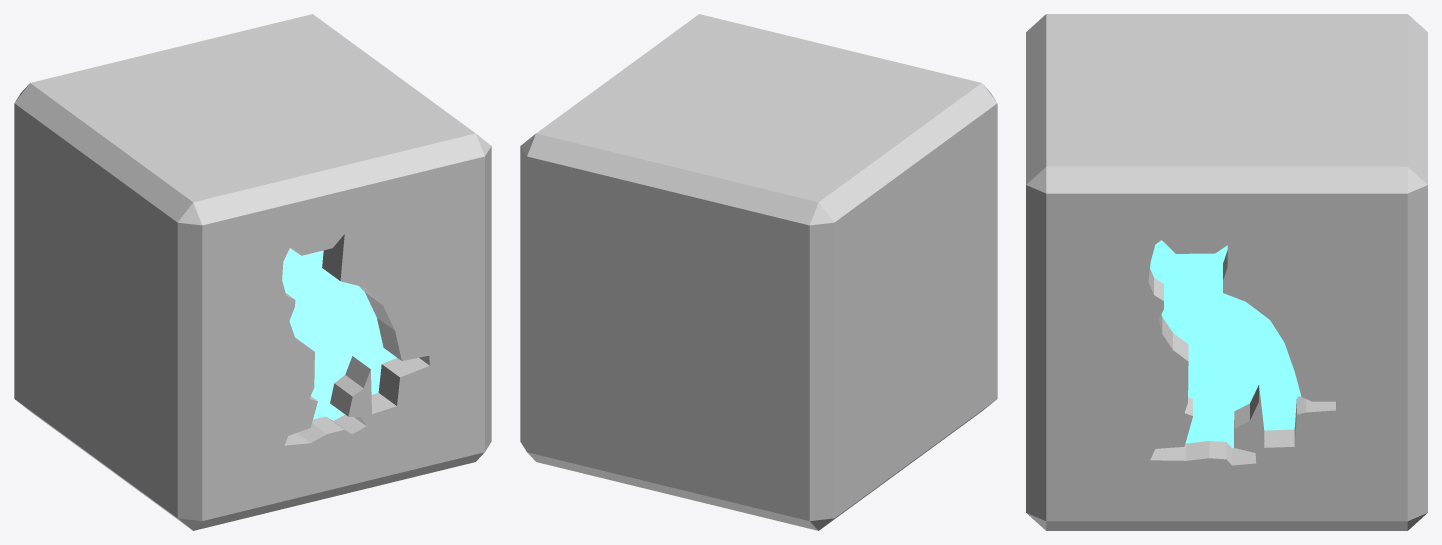
File: Kupbaykus.fbx
The picture shows the model from 3 angles, left to right: view 1: azimuth 30°, elevation 25°; view 2: azimuth 150°, elevation 25°; view 3: azimuth 270°, elevation 25°; orthographic projection. The views are drawn at different scales.
Parts seen in each view (by area): view 1: Cube; view 2: Cube; view 3: Cube.
Boxes of the visible parts, x1=… form: Cube: x1=14, y1=14, x2=491, y2=530; Cube: x1=520, y1=14, x2=997, y2=530; Cube: x1=1026, y1=14, x2=1427, y2=530.
Size of the model in its own units: 119 by 119 by 119.
